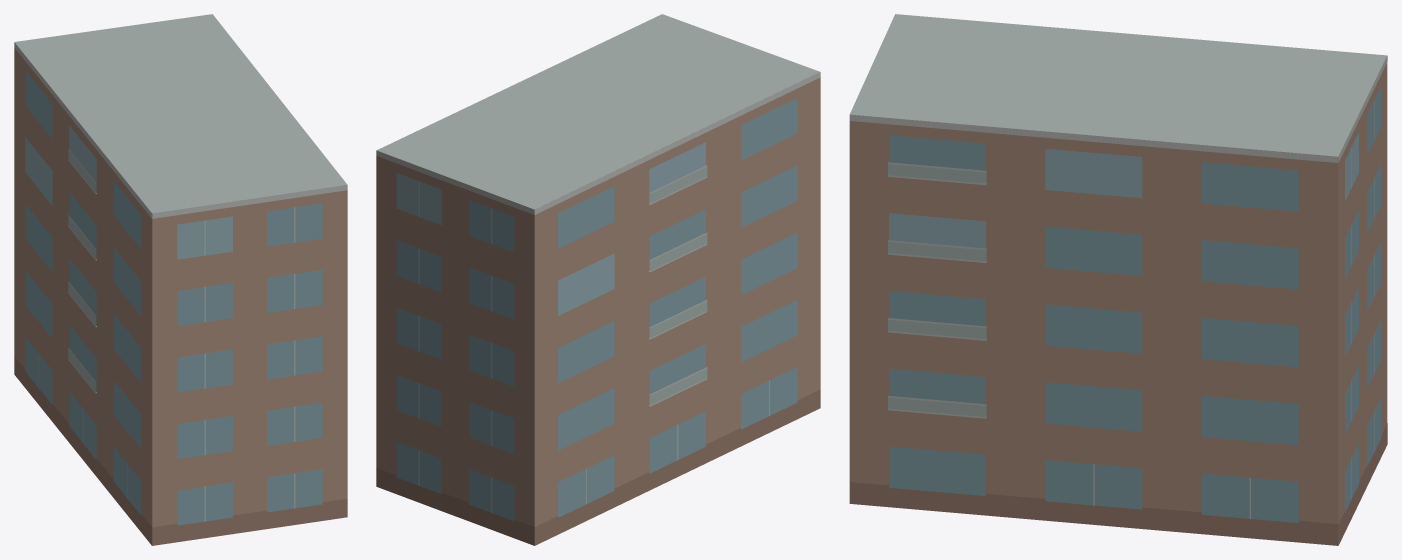
File: survey-upis-33039966.glb
3 renders of one model, left to right at view 1: azimuth 30°, elevation 25°; view 2: azimuth 150°, elevation 25°; view 3: azimuth 270°, elevation 25°, orthographic. The views are drawn at different scales.
Visible parts, largest first — view 1: survey-upis-33039966.tmp; view 2: survey-upis-33039966.tmp; view 3: survey-upis-33039966.tmp.
Part boxes in pixels (x1,y1,x2,y2): survey-upis-33039966.tmp: [14, 14, 347, 545]; survey-upis-33039966.tmp: [376, 14, 820, 545]; survey-upis-33039966.tmp: [849, 14, 1387, 545].
Bounding box in the file's own units: 11.8 × 14.99 × 18.78.
